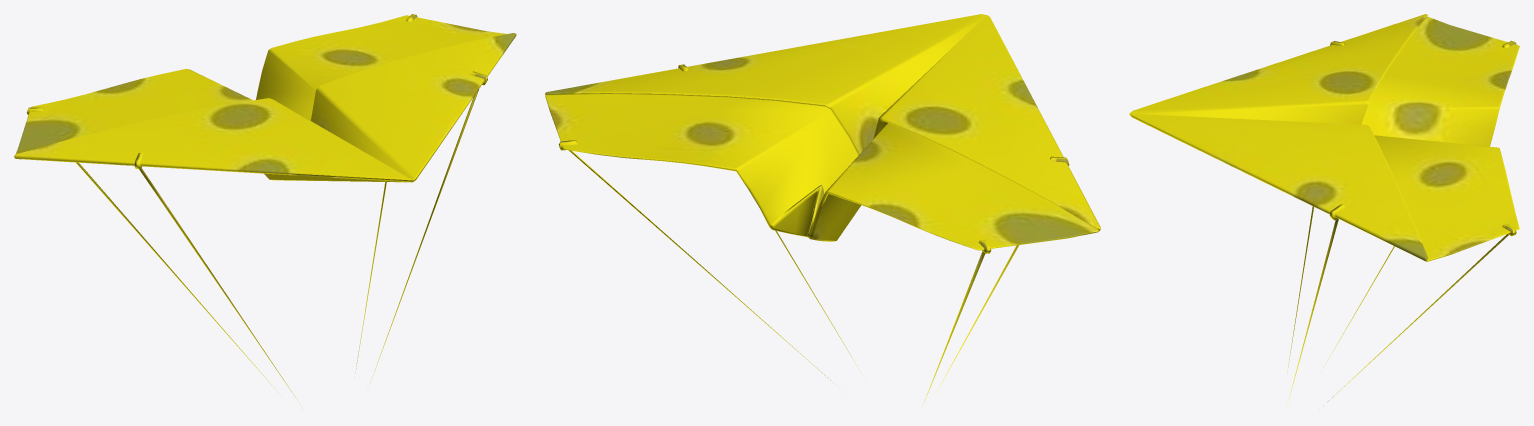
The model's file is Papel.obj.
3 renders of one model, left to right at view 1: azimuth 30°, elevation 25°; view 2: azimuth 150°, elevation 25°; view 3: azimuth 270°, elevation 25°, orthographic. The views are drawn at different scales.
Parts seen in each view (by area): view 1: Papel:Wing_Pap__m_Wing; view 2: Papel:Wing_Pap__m_Wing; view 3: Papel:Wing_Pap__m_Wing.
Boxes of the visible parts, x1,y1,x2,y2 form: Papel:Wing_Pap__m_Wing: [14, 14, 516, 398]; Papel:Wing_Pap__m_Wing: [545, 14, 1100, 404]; Papel:Wing_Pap__m_Wing: [1129, 14, 1519, 405].
Bounding box in the file's own units: 1.02 × 0.5529 × 0.6911.
1 material, 1 textured.
